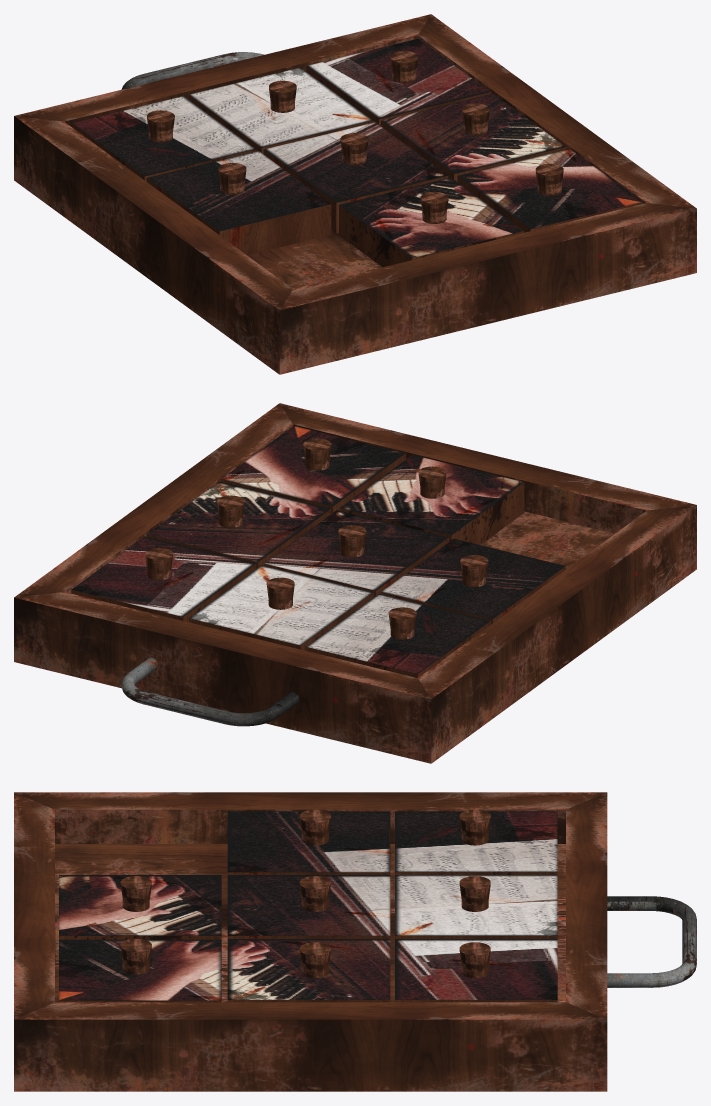
Rendered from PuzzleBoard 1.FBX.
3 renders of one model, top to bottom at view 1: azimuth 30°, elevation 25°; view 2: azimuth 150°, elevation 25°; view 3: azimuth 270°, elevation 25°, orthographic. The views are drawn at different scales.
Parts seen in each view (by area): view 1: PuzzleBoard003; view 2: PuzzleBoard003; view 3: PuzzleBoard003.
Boxes of the visible parts, x1,y1,x2,y2 form: PuzzleBoard003: [14, 14, 696, 374]; PuzzleBoard003: [14, 403, 696, 763]; PuzzleBoard003: [14, 792, 696, 1091].
Bounding box in the file's own units: 142 × 28 × 181.
